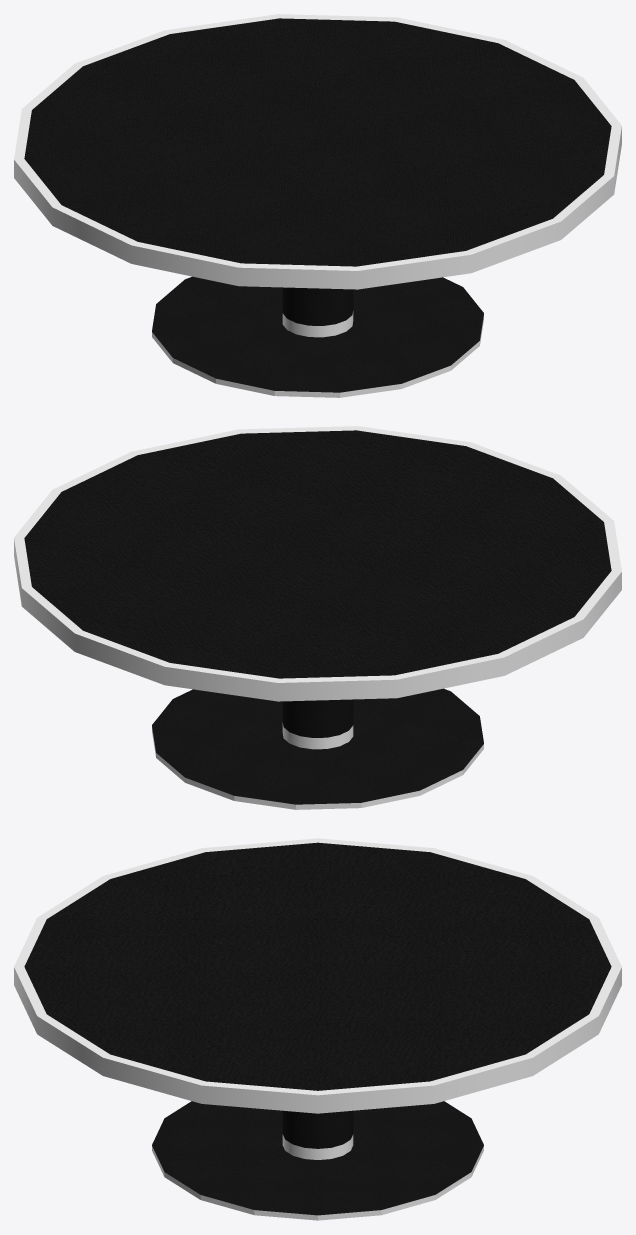
File: RoundTable.FBX
3 views of the same model, one above another, from view 1: azimuth 30°, elevation 25°; view 2: azimuth 150°, elevation 25°; view 3: azimuth 270°, elevation 25° (orthographic).
Visible parts, largest first — view 1: RoundTable; view 2: RoundTable; view 3: RoundTable.
Boxes of the visible parts, left/top/right/bottom form: RoundTable: left=14, top=14, right=621, bottom=397; RoundTable: left=14, top=426, right=621, bottom=809; RoundTable: left=14, top=838, right=621, bottom=1220.
Size of the model in its own units: 118 by 39.35 by 118.
